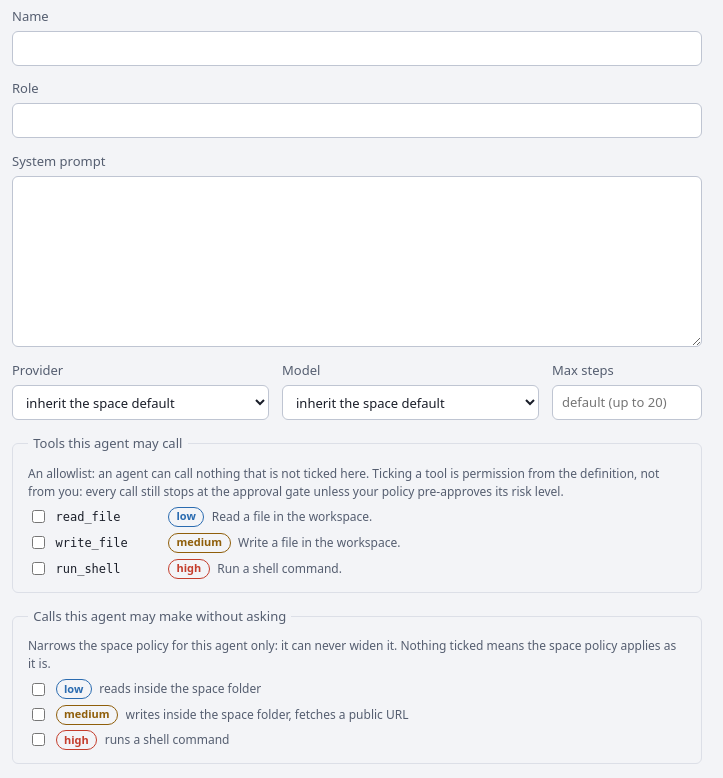
Test: validation errors land on the field the server blamed › falls back to a form-level message only when the server named no field
The image size is (723, 778).
Type "an_agent" into the field with test id "field-name" at (357, 48), box [12,31,702,66]
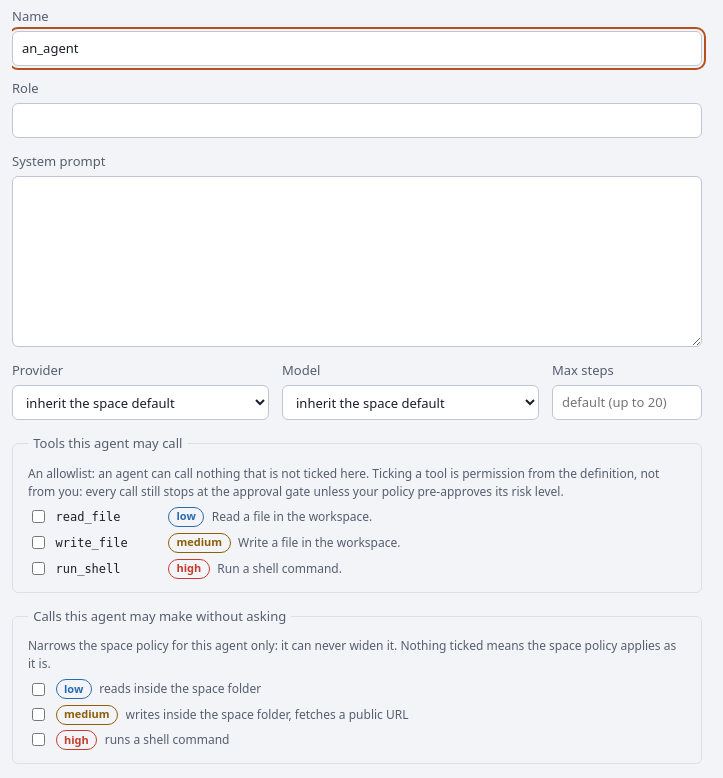
Type "You do the thing." into the text box with test id "field-system-prompt" at (357, 262), box [12,176,702,347]
(page scrolled)
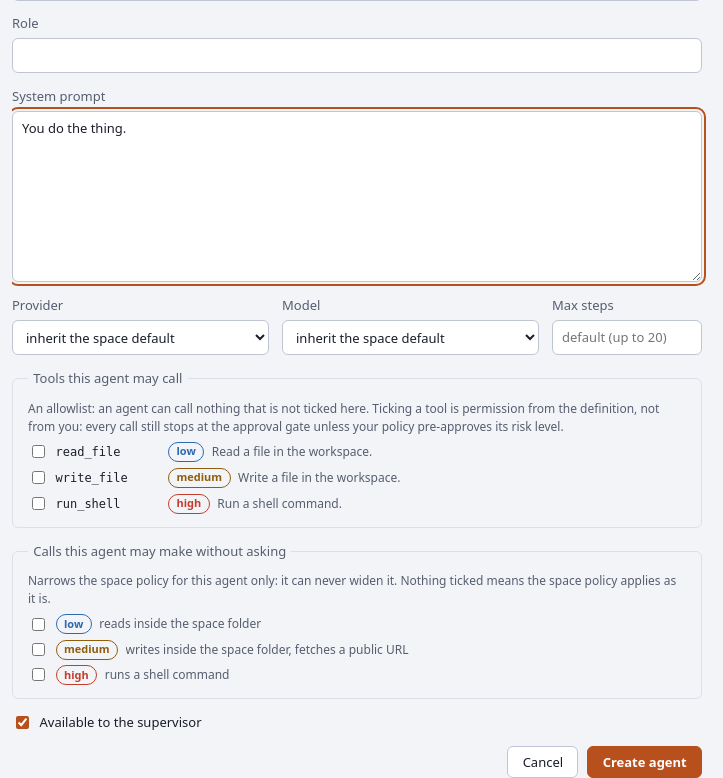
Click the button "Create agent" at (645, 762), box [587,746,702,777]
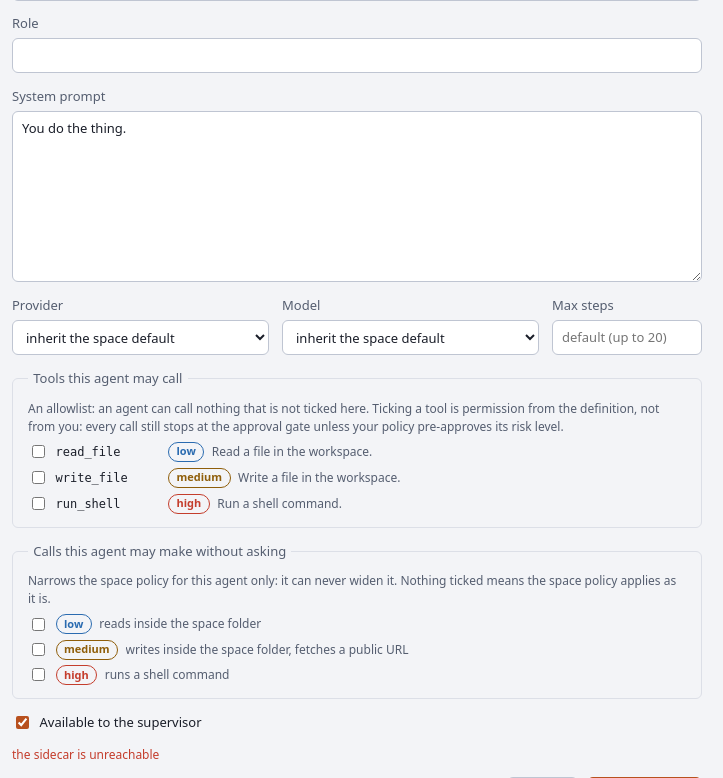
Result: the message with test id "error-form" reads "the sidecar is unreachable" at [12,746,159,763]
